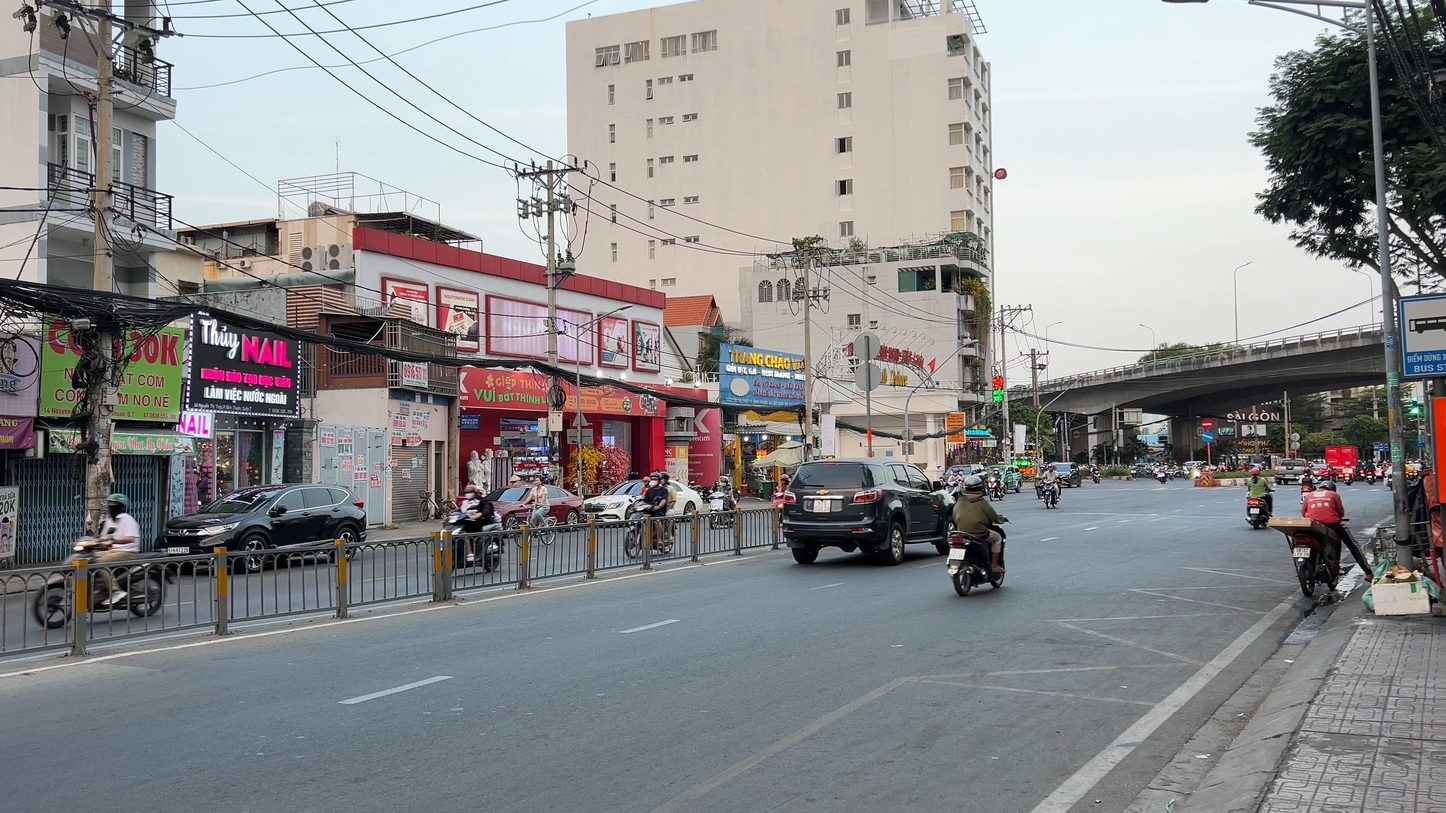bicyclist: (514, 477, 560, 548)
driver: (33, 493, 174, 630), (1267, 480, 1374, 597), (946, 476, 1012, 596), (439, 485, 506, 575), (625, 471, 678, 559), (1245, 468, 1278, 529), (706, 476, 737, 530), (1039, 463, 1064, 509), (1295, 467, 1323, 505), (943, 467, 966, 504), (986, 467, 1005, 501), (1342, 461, 1354, 486)
helmet: (106, 493, 130, 515), (964, 477, 982, 492), (463, 485, 479, 500), (1319, 481, 1337, 492), (649, 473, 662, 488), (720, 478, 728, 487), (1251, 468, 1260, 476), (1304, 467, 1311, 474)
no-helmet: (535, 477, 544, 487)
